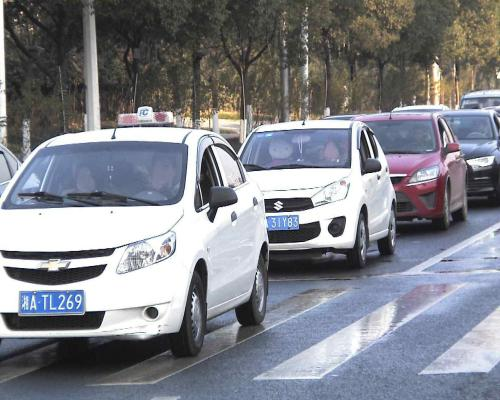Carplate: (14, 286, 89, 320)
